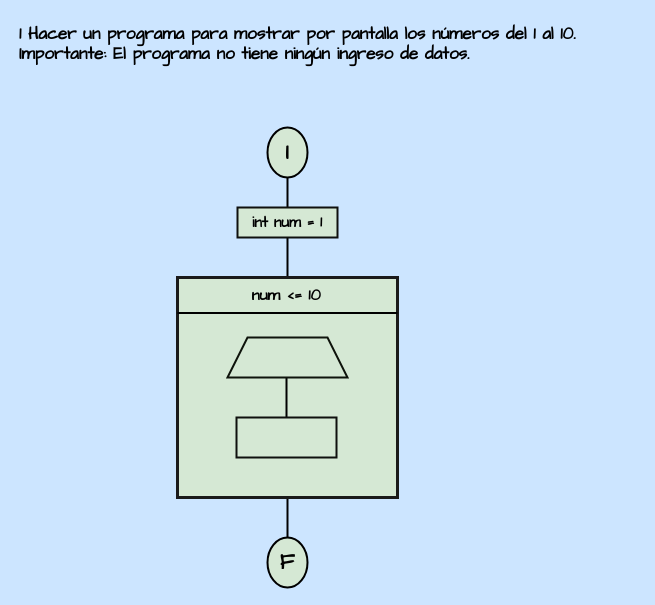
Image size: 655x605. Some labels were removed from this diagram. The centre of each missing label's shape, as x and y in pixels:
"num" goes at (x=287, y=357).
"num++" goes at (x=286, y=437).
